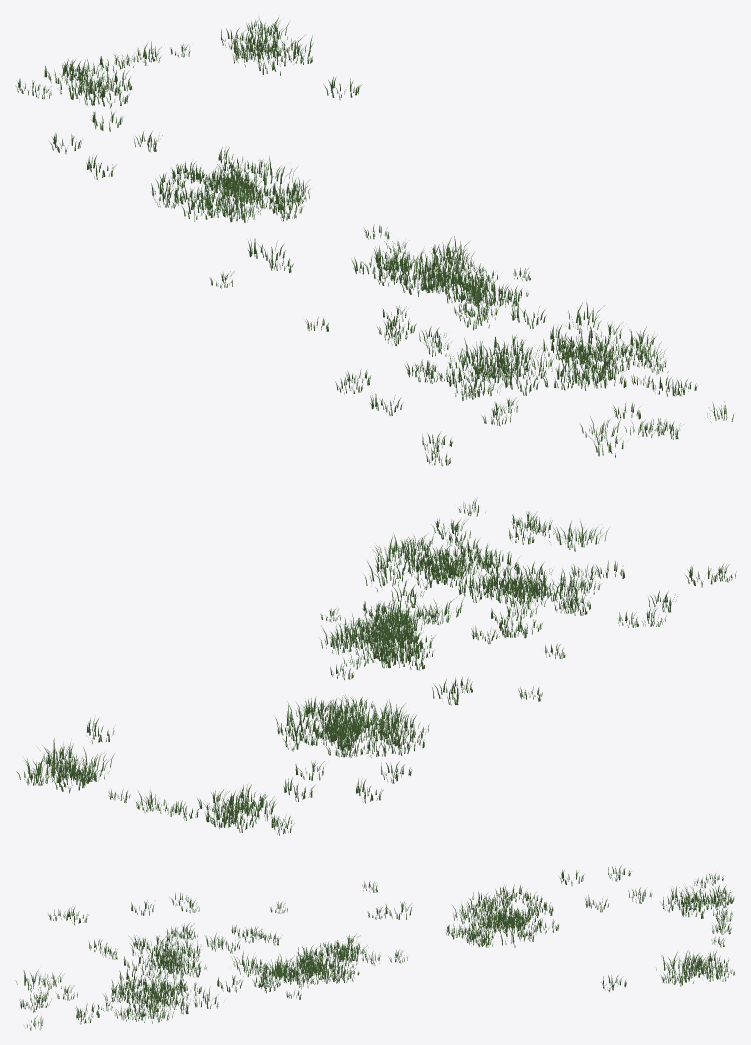
Rendered from P2N_forest_grass_-10_6.glb.
3 views of the same model, one above another, from view 1: azimuth 30°, elevation 25°; view 2: azimuth 150°, elevation 25°; view 3: azimuth 270°, elevation 25° (orthographic). The views are drawn at different scales.
Parts seen in each view (by area): view 1: P2N_forest_grass_-10_6; view 2: P2N_forest_grass_-10_6; view 3: P2N_forest_grass_-10_6.
Boxes of the visible parts, bbox=[...] form: P2N_forest_grass_-10_6: bbox=[15, 17, 733, 466]; P2N_forest_grass_-10_6: bbox=[16, 497, 736, 835]; P2N_forest_grass_-10_6: bbox=[15, 865, 734, 1030].
Size of the model in its own units: 12.48 by 3.16 by 32.91.
